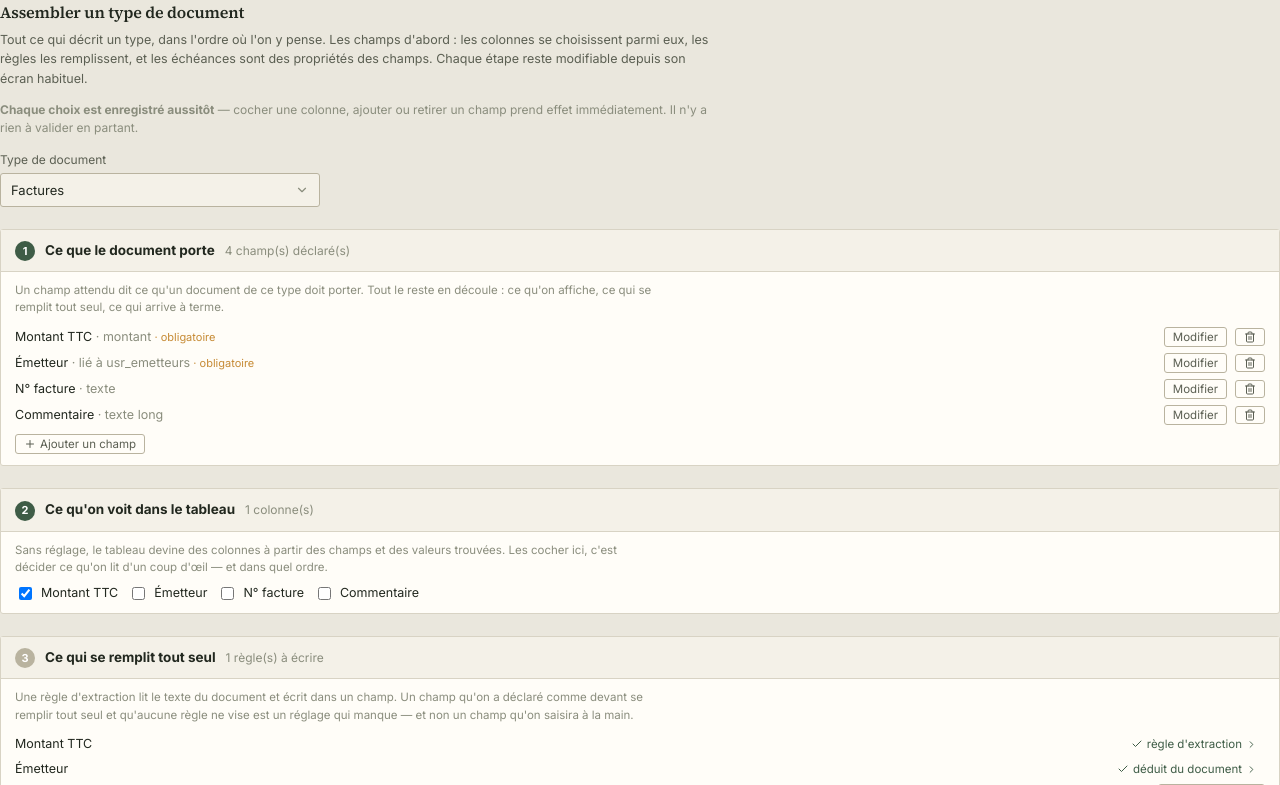
Test: aller à ce qui remplit un champ (§22.28) › mais ouvre le champ quand c'est une déduction : elle se règle sur lui
The image size is (1280, 785).
// « Émetteur » se déduit d'une table : rien à corriger dans les règles
Click the button titled "la déduction se règle sur lui".
click(1187, 769)  # box 1109,760 -> 1265,778
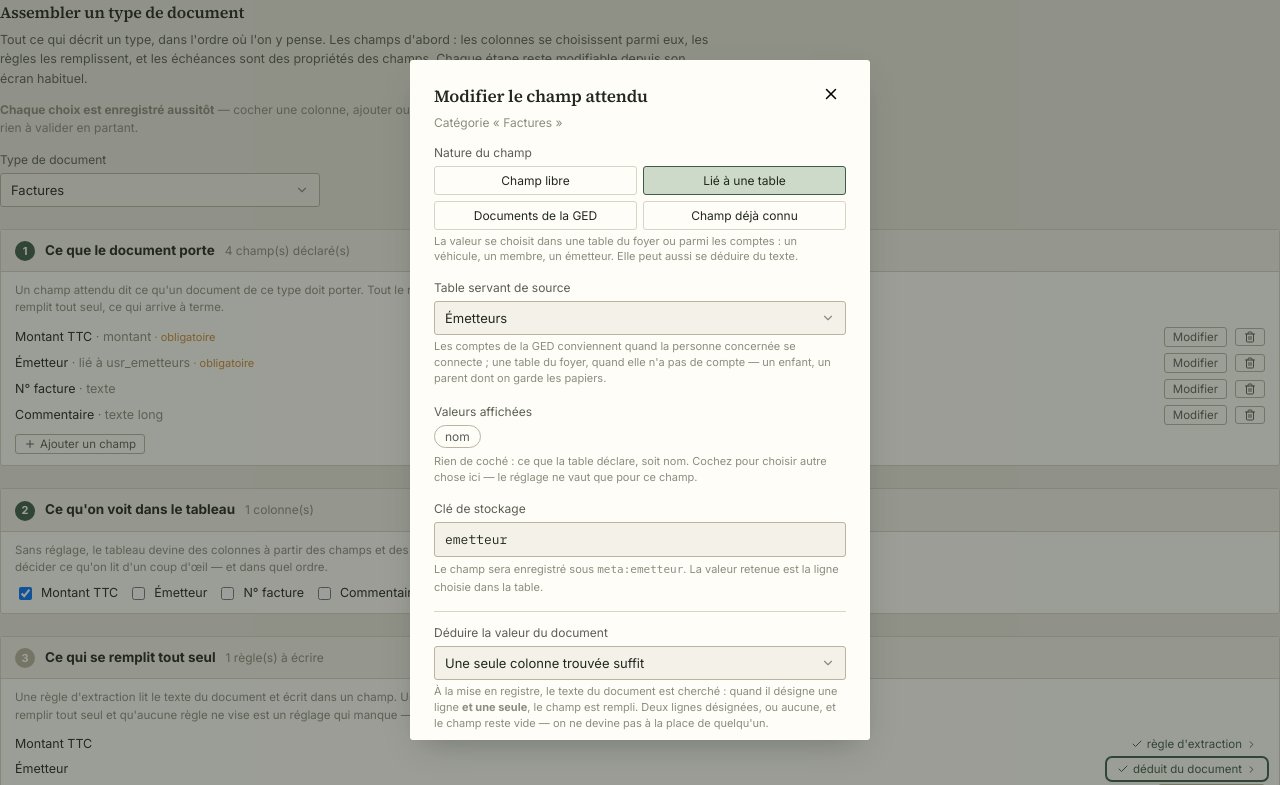
Result: the heading "Modifier le champ attendu" is shown at 434,84 -> 648,110
